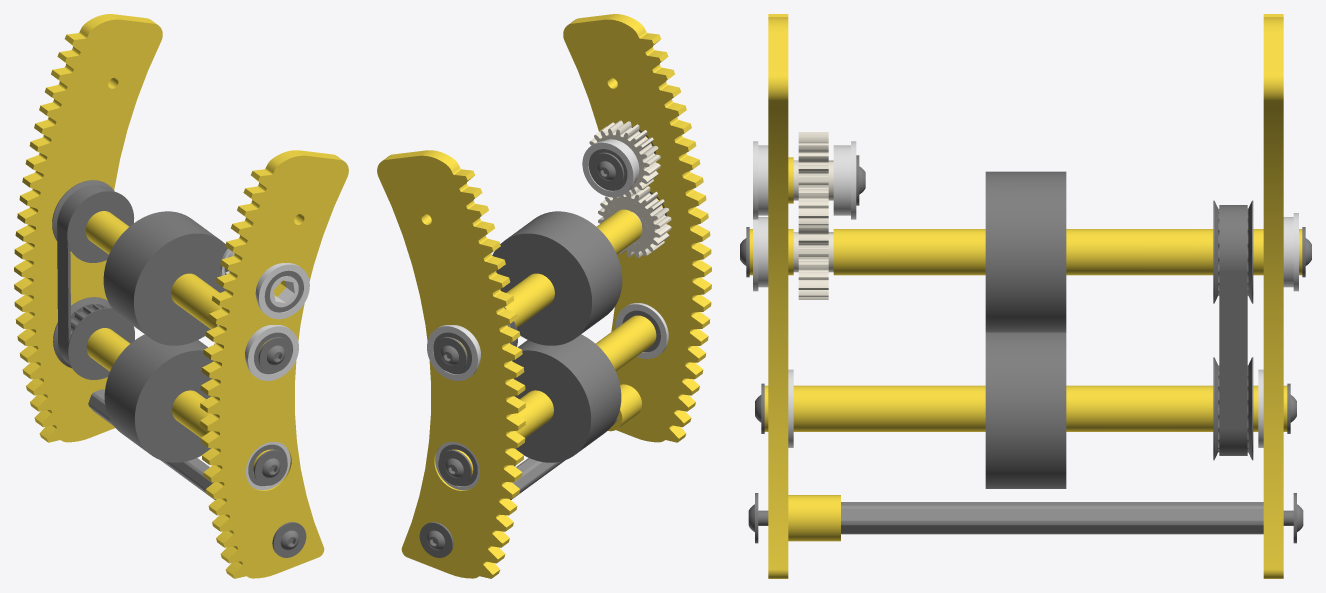
3 views of the same model, side by side, from view 1: azimuth 30°, elevation 25°; view 2: azimuth 150°, elevation 25°; view 3: azimuth 270°, elevation 25° (orthographic). The views are drawn at different scales.
Parts seen in each view (by area): view 1: occurrence of 2" Solid Urethane Wheel (45A, 1" Wide, 1/2" He; view 2: occurrence of 2" Solid Urethane Wheel (45A, 1" Wide, 1/2" He; view 3: occurrence of 2" Solid Urethane Wheel (45A, 1" Wide, 1/2" He.
Part boxes in pixels (x1,y1,x2,y2): occurrence of 2" Solid Urethane Wheel (45A, 1" Wide, 1/2" He: (14, 14, 348, 578); occurrence of 2" Solid Urethane Wheel (45A, 1" Wide, 1/2" He: (377, 14, 711, 578); occurrence of 2" Solid Urethane Wheel (45A, 1" Wide, 1/2" He: (740, 14, 1311, 578).
Bounding box in the file's own units: 0.0685 × 0.1917 × 0.1806.
